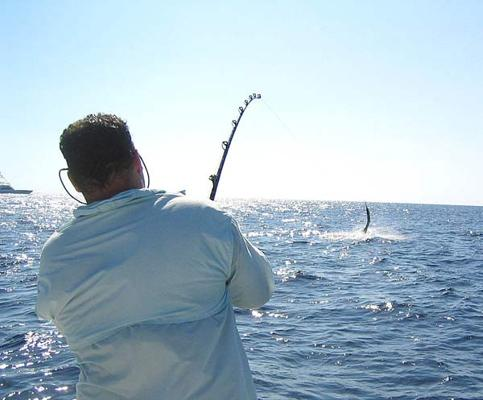person: (36, 112, 273, 400)
